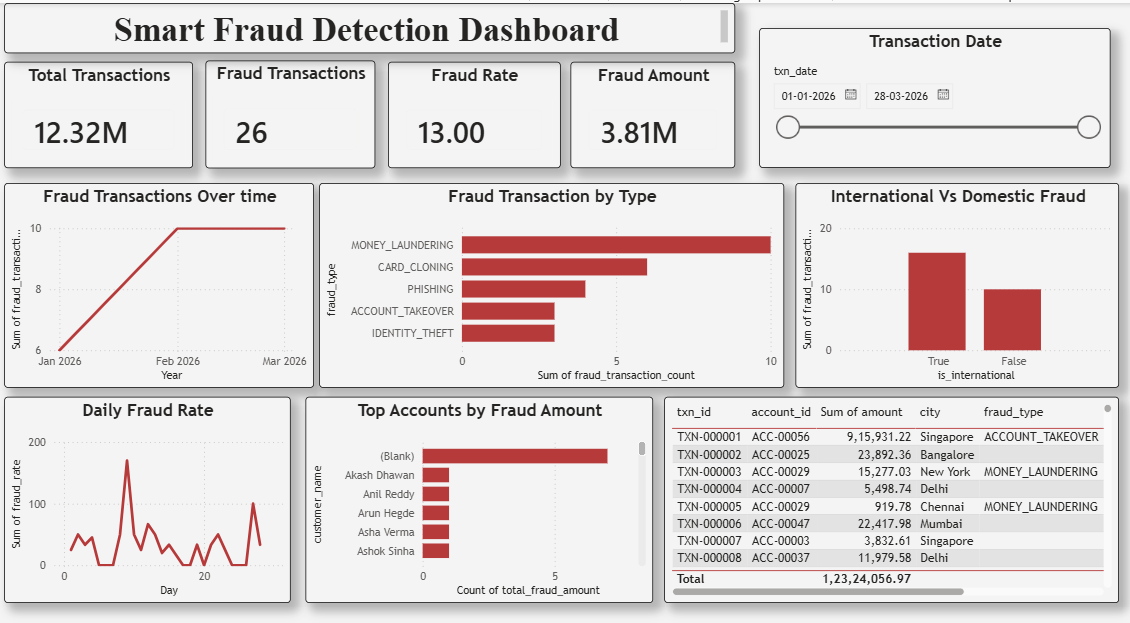

The dashboard page shown, as its layout file describes it:
{"tool":"powerbi","page":{"name":"Executive Overview","canvas":[1280,720],"ordinal":0},"visuals":[{"type":"cardVisual","title":"Total Transactions","fields":{"Data":["Sum(executive_kpis.total_transaction_amount)"]},"box":[39.8,64.5,207.2,116.6],"z":0},{"type":"cardVisual","title":"Fraud Transactions","fields":{"Data":["Sum(executive_kpis.fraud_transactions)"]},"box":[260.7,63.1,186.6,118],"z":1000},{"type":"cardVisual","title":"Fraud Rate","fields":{"Data":["Sum(executive_kpis.fraud_rate)"]},"box":[461.1,64.5,189.4,116.6],"z":2000},{"type":"cardVisual","title":"Fraud Amount","fields":{"Data":["Sum(executive_kpis.fraud_amount)"]},"box":[661.4,64.5,181.1,116.6],"z":3000},{"type":"textbox","box":[39.8,0,802.7,54.9],"z":4000},{"type":"lineChart","title":"Fraud Transactions Over time","fields":{"Category":["daily_fraud_trend.txn_date.Variation.Date Hierarchy.Year","daily_fraud_trend.txn_date.Variation.Date Hierarchy.Quarter","daily_fraud_trend.txn_date.Variation.Date Hierarchy.Month","daily_fraud_trend.txn_date.Variation.Date Hierarchy.Day"],"Y":["Sum(daily_fraud_trend.fraud_transactions)"]},"box":[39.8,197.6,340.3,225],"z":5000},{"type":"lineChart","title":"Daily Fraud Rate","fields":{"Category":["daily_fraud_trend.txn_date.Variation.Date Hierarchy.Day"],"Y":["Sum(daily_fraud_trend.fraud_rate)"]},"box":[39.8,432.2,314.2,226.4],"z":6000},{"type":"clusteredBarChart","title":"Fraud Transaction by Type","fields":{"Category":["fraud_type_analysis.fraud_type"],"Y":["Sum(fraud_type_analysis.fraud_transaction_count)"]},"box":[385.6,197.6,510.5,225],"z":7000},{"type":"barChart","title":"Top Accounts by Fraud Amount","fields":{"Y":["CountNonNull(account_fraud_analysis.total_fraud_amount)"],"Category":["account_fraud_analysis.customer_name"]},"box":[370.5,432.2,381.5,226.4],"z":8000},{"type":"columnChart","title":"International Vs Domestic Fraud","fields":{"Category":["international_fraud_analysis.is_international"],"Y":["Sum(international_fraud_analysis.fraud_transactions)"]},"box":[908.4,197.6,355.4,225],"z":9000},{"type":"tableEx","fields":{"Values":["dashboard_transactions.txn_id","dashboard_transactions.account_id","Sum(dashboard_transactions.amount)","dashboard_transactions.city","dashboard_transactions.fraud_type","dashboard_transactions.fraud_status","Sum(dashboard_transactions.fraud_amount)"]},"box":[764.3,432.2,499.5,226.4],"z":10000},{"type":"actionButton","box":[0,6.9,100,40],"z":11000},{"type":"slicer","title":"Transaction Date","fields":{"Values":["dashboard_transactions.txn_date"]},"box":[868.6,27.4,385.6,153.7],"z":11001}]}

Visuals, with their boxes in screenshot pixels (x1, y1, x2, y2), scaled from the page's 1280x720 canvas onto the 1130x623 screenshot:
"Total Transactions" cardVisual: l=35, t=56, r=218, b=157
"Fraud Transactions" cardVisual: l=230, t=55, r=395, b=157
"Fraud Rate" cardVisual: l=407, t=56, r=574, b=157
"Fraud Amount" cardVisual: l=584, t=56, r=744, b=157
textbox: l=35, t=0, r=744, b=48
"Fraud Transactions Over time" lineChart: l=35, t=171, r=336, b=366
"Daily Fraud Rate" lineChart: l=35, t=374, r=313, b=570
"Fraud Transaction by Type" clusteredBarChart: l=340, t=171, r=791, b=366
"Top Accounts by Fraud Amount" barChart: l=327, t=374, r=664, b=570
"International Vs Domestic Fraud" columnChart: l=802, t=171, r=1116, b=366
tableEx - dashboard_transactions.txn_id x dashboard_transactions.account_id: l=675, t=374, r=1116, b=570
actionButton: l=0, t=6, r=88, b=41
"Transaction Date" slicer: l=767, t=24, r=1107, b=157
